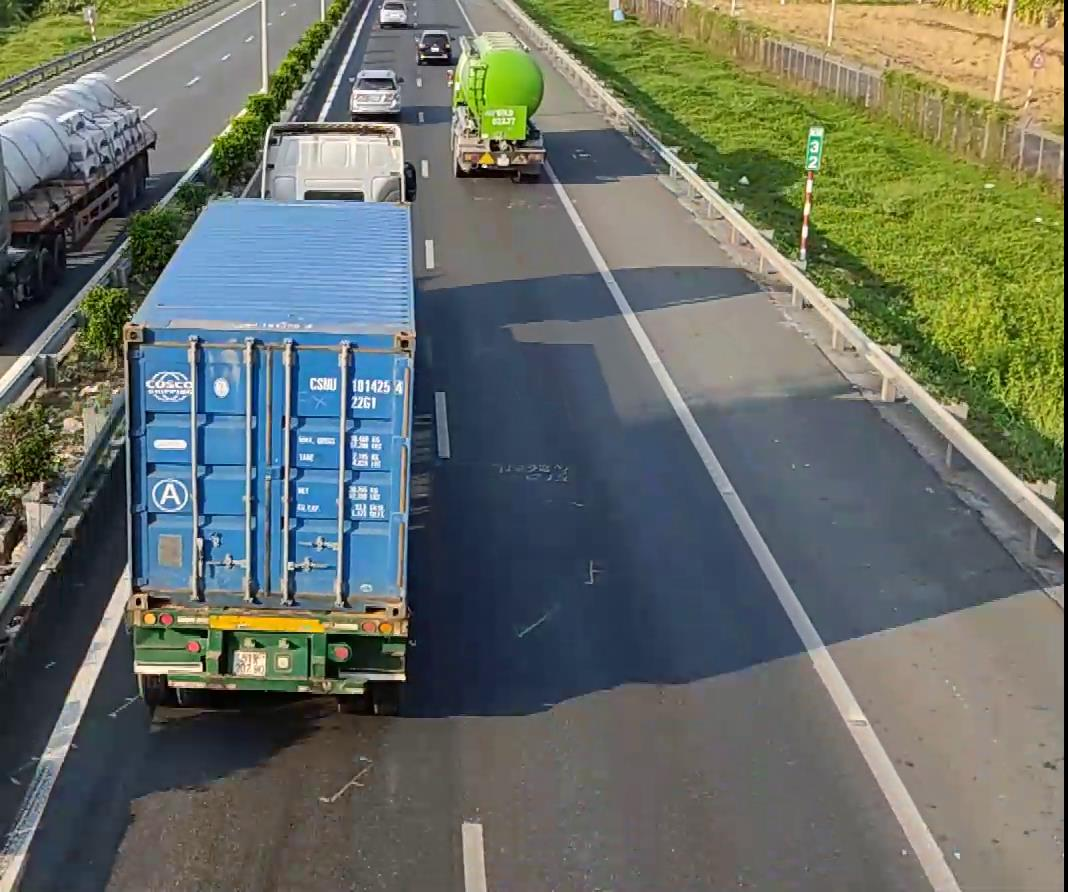container: (120, 120, 419, 711), (0, 75, 156, 337), (447, 30, 545, 179)
